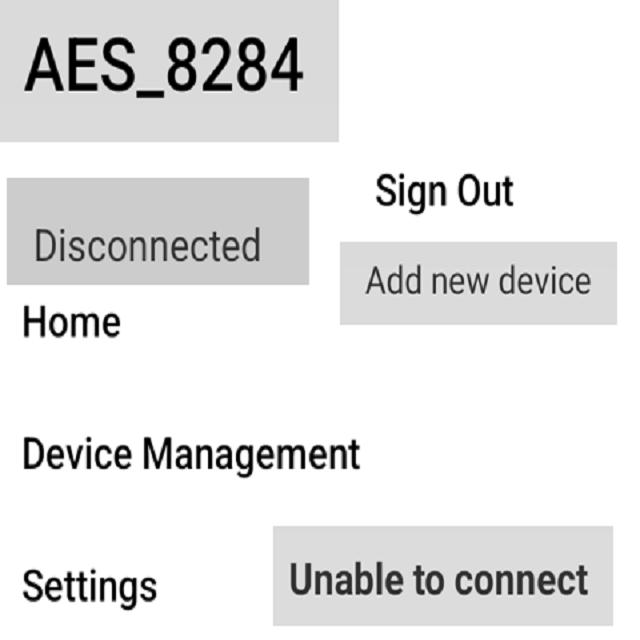2: (197, 32, 232, 96)
4: (271, 29, 303, 97)
8: (166, 29, 199, 94), (235, 32, 265, 96)
A: (19, 25, 63, 99), (363, 262, 386, 298)
D: (27, 224, 55, 262), (22, 434, 44, 471)
H: (21, 302, 46, 339)
M: (141, 430, 173, 469)
O: (456, 169, 482, 207)
S: (100, 30, 139, 94), (375, 165, 399, 208), (23, 566, 47, 608)
U: (290, 558, 309, 594)
